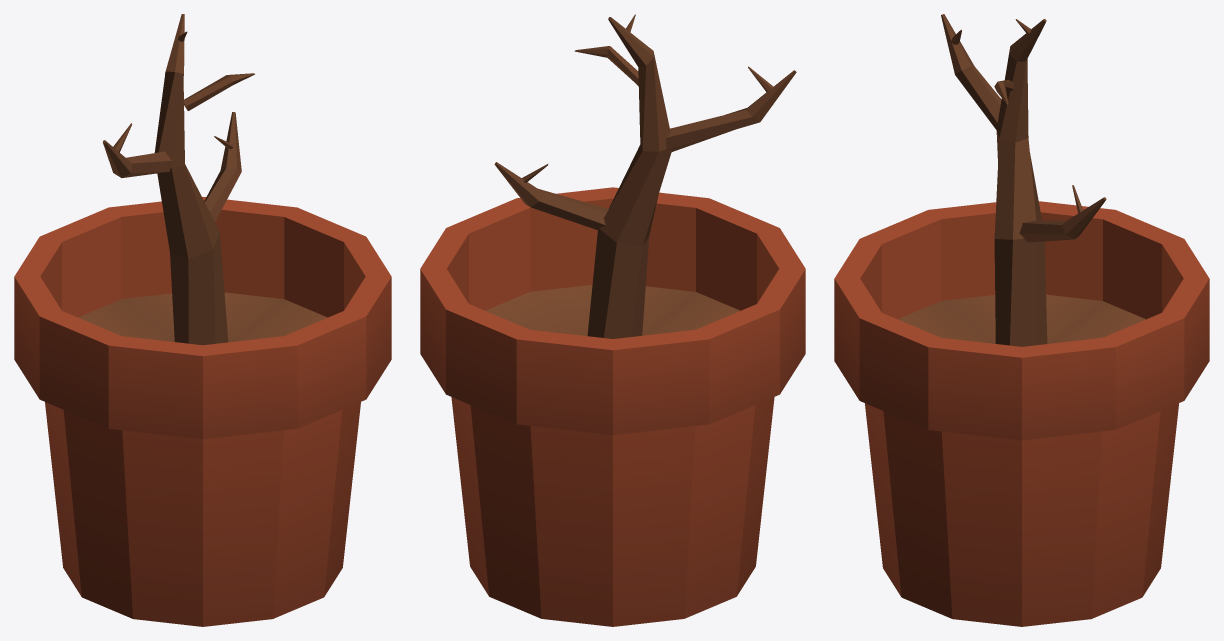
File: Laboratorio.fbx_VasoPlantaMorta.fbx
The picture shows the model from 3 angles, left to right: view 1: azimuth 30°, elevation 25°; view 2: azimuth 150°, elevation 25°; view 3: azimuth 270°, elevation 25°; orthographic projection. The views are drawn at different scales.
Parts seen in each view (by area): view 1: VasoPlantaMorta; view 2: VasoPlantaMorta; view 3: VasoPlantaMorta.
Part boxes in pixels (x1,y1,x2,y2): VasoPlantaMorta: (14,14,391,626); VasoPlantaMorta: (420,14,805,626); VasoPlantaMorta: (834,14,1209,626).
Bounding box in the file's own units: 76.82 × 123 × 76.82.
